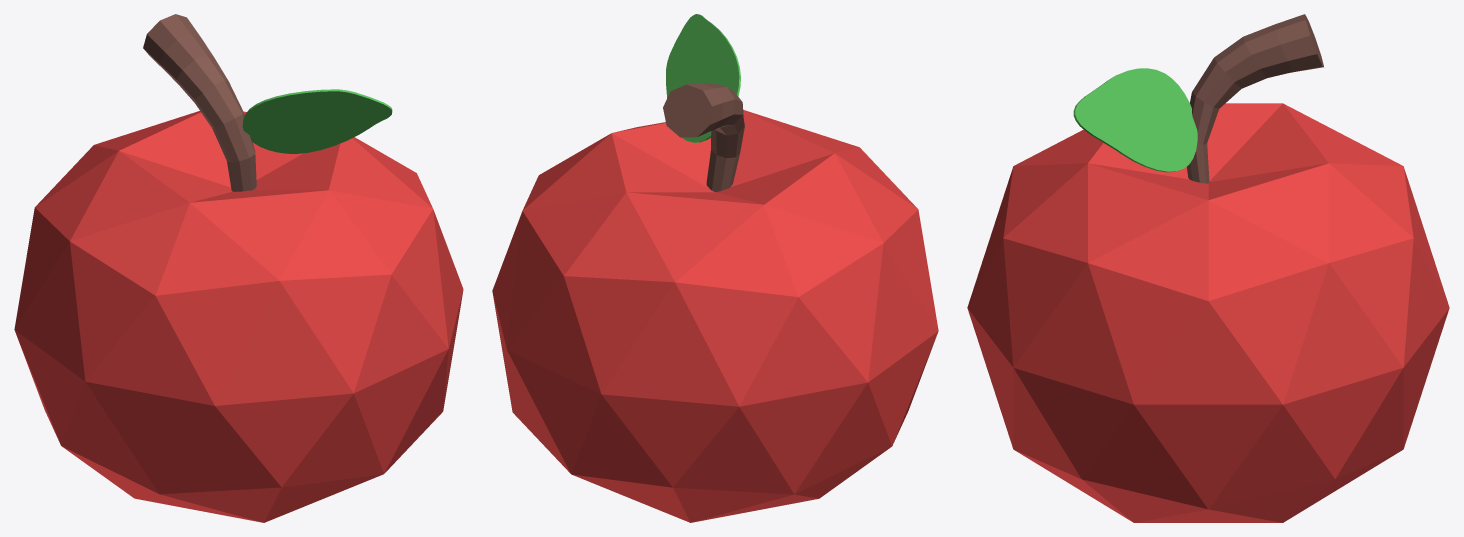
Rendered from Apple.fbx.
The picture shows the model from 3 angles, left to right: view 1: azimuth 30°, elevation 25°; view 2: azimuth 150°, elevation 25°; view 3: azimuth 270°, elevation 25°; orthographic projection. The views are drawn at different scales.
Visible parts, largest first — view 1: Icosphere, Cylinder, Circle; view 2: Icosphere, Cylinder, Circle; view 3: Icosphere, Circle, Cylinder.
Part boxes in pixels (bbox=[...]): Icosphere: bbox=[14, 111, 463, 522]; Cylinder: bbox=[143, 14, 256, 191]; Circle: bbox=[242, 89, 392, 153]; Icosphere: bbox=[492, 110, 938, 522]; Cylinder: bbox=[663, 83, 744, 192]; Circle: bbox=[666, 14, 740, 142]; Icosphere: bbox=[967, 103, 1449, 522]; Circle: bbox=[1073, 68, 1197, 172]; Cylinder: bbox=[1187, 14, 1323, 183].
Size of the model in its own units: 190 by 206 by 200.
